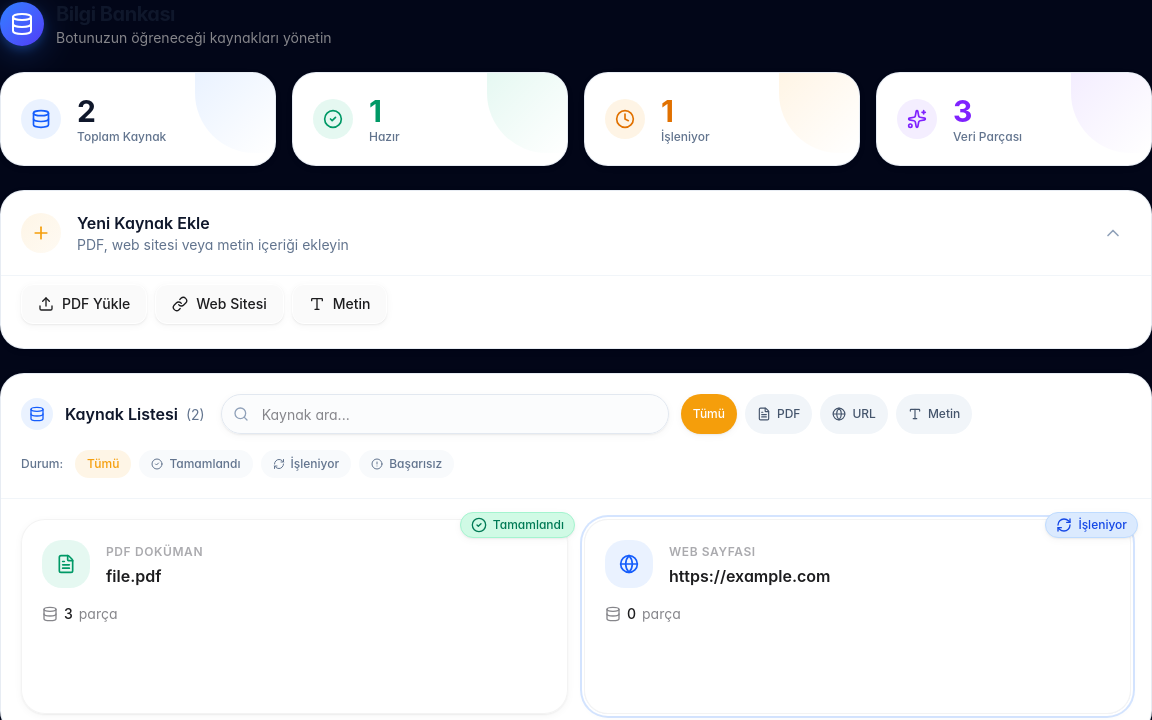
Test: SourcesTab › collapses and expands upload section
The image size is (1152, 720).
expect the button "PDF Yükle" is shown: met, box [21,284,147,324]
Step 1. Click the button "Yeni Kaynak Ekle PDF, web sitesi veya metin içeriği ekleyin" → (41, 233), box [1,191,1151,275]
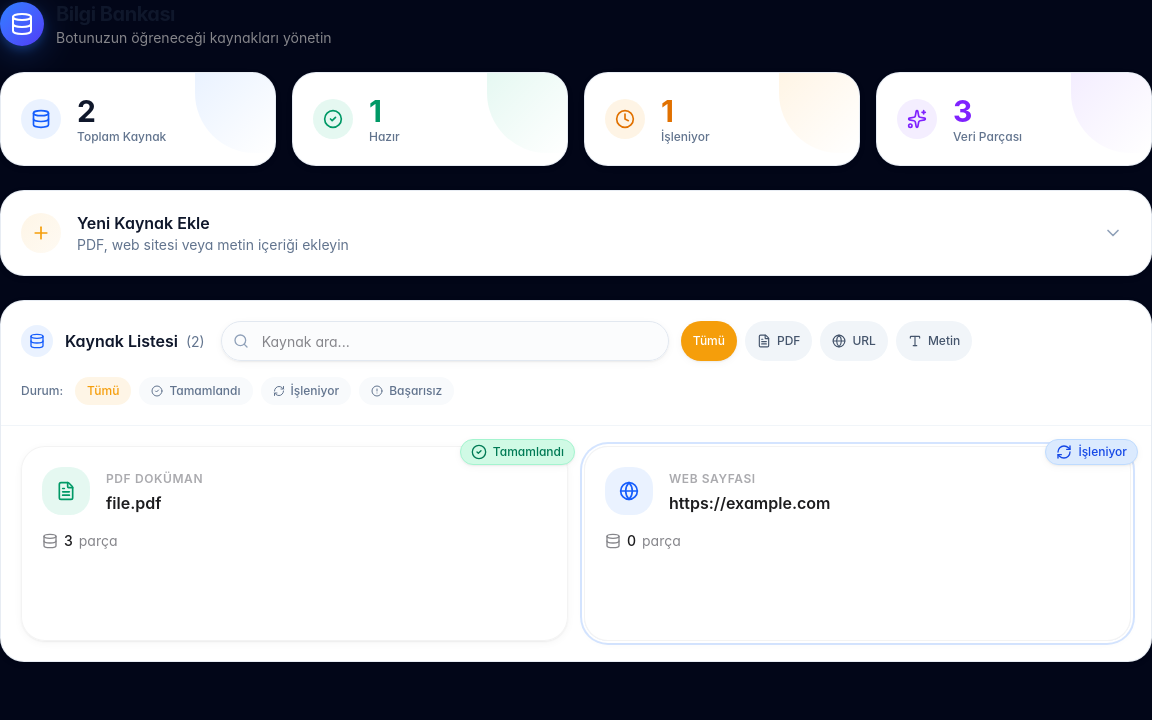
expect the button "PDF Yükle" is gone: met
